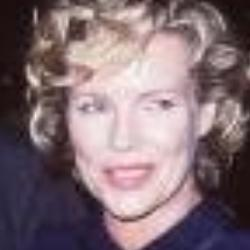face: (15, 4, 241, 217)
